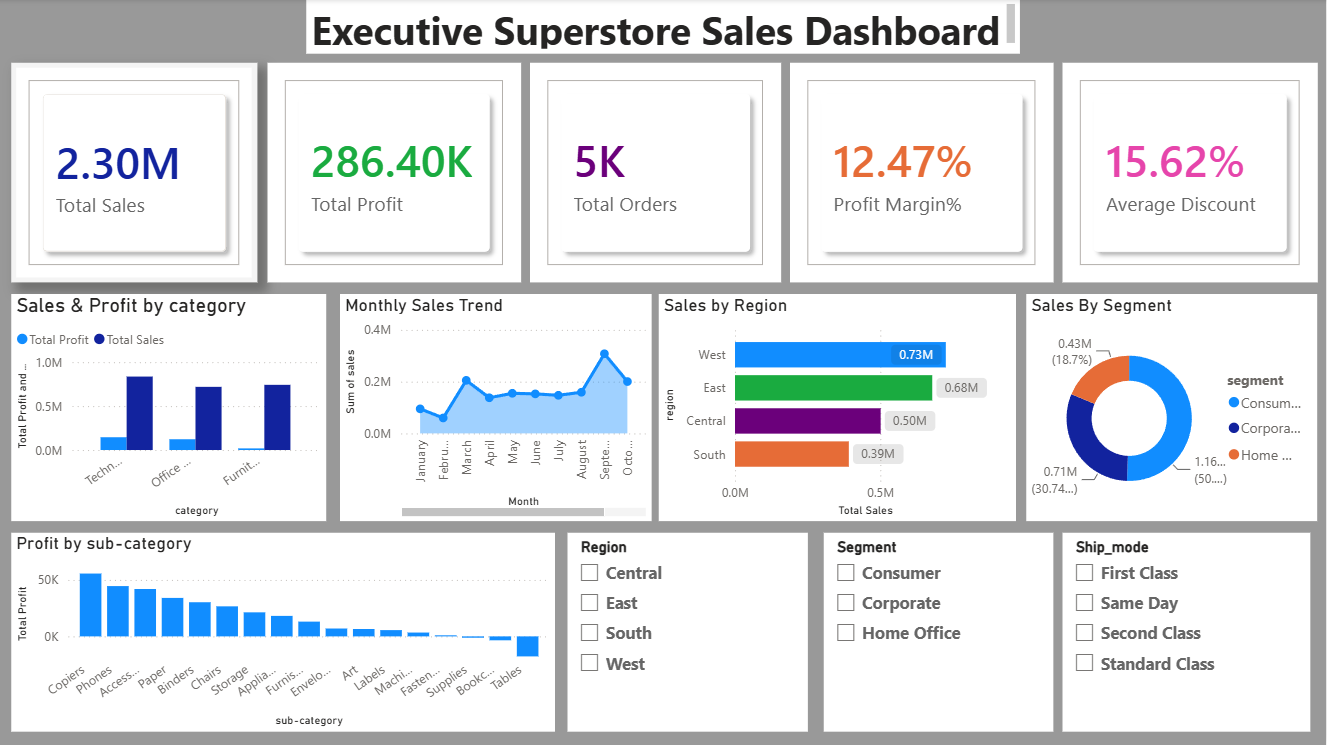

What the dashboard file says about the page in this screenshot:
{"tool":"powerbi","page":{"name":"Page 1","canvas":[1280,720],"ordinal":0},"visuals":[{"type":"cardVisual","title":"Sales & Profit by Category","fields":{"Data":["cleaned_superstore.Total Sales"]},"box":[10.9,61.5,237.7,212.3],"z":0},{"type":"cardVisual","fields":{"Data":["cleaned_superstore.Total Profit"]},"box":[258.2,61.5,244.9,212.3],"z":1000},{"type":"cardVisual","fields":{"Data":["cleaned_superstore.Average Discount"]},"box":[1025.5,61.5,246.1,212.3],"z":2000},{"type":"cardVisual","fields":{"Data":["cleaned_superstore.Total Orders"]},"box":[511.5,61.5,242.5,212.3],"z":3000},{"type":"cardVisual","fields":{"Data":["cleaned_superstore.Profit Margin%"]},"box":[762.5,61.5,254.6,212.3],"z":4000},{"type":"clusteredColumnChart","title":"Sales & Profit by category","fields":{"Category":["cleaned_superstore.category"],"Y":["cleaned_superstore.Total Profit","cleaned_superstore.Total Sales"]},"box":[10.9,284.7,304,219.6],"z":5000},{"type":"clusteredBarChart","title":"Sales by Region","fields":{"Category":["cleaned_superstore.region"],"Y":["cleaned_superstore.Total Sales"]},"box":[635.8,284.7,345,219.6],"z":6000},{"type":"columnChart","title":"Profit by sub-category","fields":{"Category":["cleaned_superstore.sub-category"],"Y":["cleaned_superstore.Total Profit"]},"box":[10.9,515.2,524.8,191.8],"z":7000},{"type":"slicer","fields":{"Values":["cleaned_superstore.region"]},"box":[547.7,515.2,231.6,191.8],"z":8000},{"type":"slicer","fields":{"Values":["cleaned_superstore.segment"]},"box":[795,515.2,222,191.8],"z":9000},{"type":"slicer","fields":{"Values":["cleaned_superstore.ship_mode"]},"box":[1025.5,515.2,238.9,191.8],"z":10000},{"type":"textbox","box":[295.6,0,688.9,53.1],"z":11000},{"type":"lineChart","title":"Monthly Sales Trend","fields":{"Category":["cleaned_superstore.order_date.Variation.Date Hierarchy.Month"],"Y":["Sum(cleaned_superstore.sales)"]},"box":[328.2,284.7,300.4,219.6],"z":12000},{"type":"donutChart","title":"Sales By Segment","fields":{"Category":["cleaned_superstore.segment"],"Y":["Sum(cleaned_superstore.sales)"]},"box":[990.5,284.7,281.1,219.6],"z":13000}]}

Visuals, with their boxes in screenshot pixels (x1, y1, x2, y2), scaled from the page's 1280x720 canvas onto the 1327x745 screenshot:
"Sales & Profit by Category" cardVisual: {"left": 11, "top": 64, "right": 258, "bottom": 283}
cardVisual - cleaned_superstore.Total Profit: {"left": 268, "top": 64, "right": 522, "bottom": 283}
cardVisual - cleaned_superstore.Average Discount: {"left": 1063, "top": 64, "right": 1318, "bottom": 283}
cardVisual - cleaned_superstore.Total Orders: {"left": 530, "top": 64, "right": 782, "bottom": 283}
cardVisual - cleaned_superstore.Profit Margin%: {"left": 790, "top": 64, "right": 1054, "bottom": 283}
"Sales & Profit by category" clusteredColumnChart: {"left": 11, "top": 295, "right": 326, "bottom": 522}
"Sales by Region" clusteredBarChart: {"left": 659, "top": 295, "right": 1017, "bottom": 522}
"Profit by sub-category" columnChart: {"left": 11, "top": 533, "right": 555, "bottom": 732}
slicer - cleaned_superstore.region: {"left": 568, "top": 533, "right": 808, "bottom": 732}
slicer - cleaned_superstore.segment: {"left": 824, "top": 533, "right": 1054, "bottom": 732}
slicer - cleaned_superstore.ship_mode: {"left": 1063, "top": 533, "right": 1311, "bottom": 732}
textbox: {"left": 306, "top": 0, "right": 1021, "bottom": 55}
"Monthly Sales Trend" lineChart: {"left": 340, "top": 295, "right": 652, "bottom": 522}
"Sales By Segment" donutChart: {"left": 1027, "top": 295, "right": 1318, "bottom": 522}
